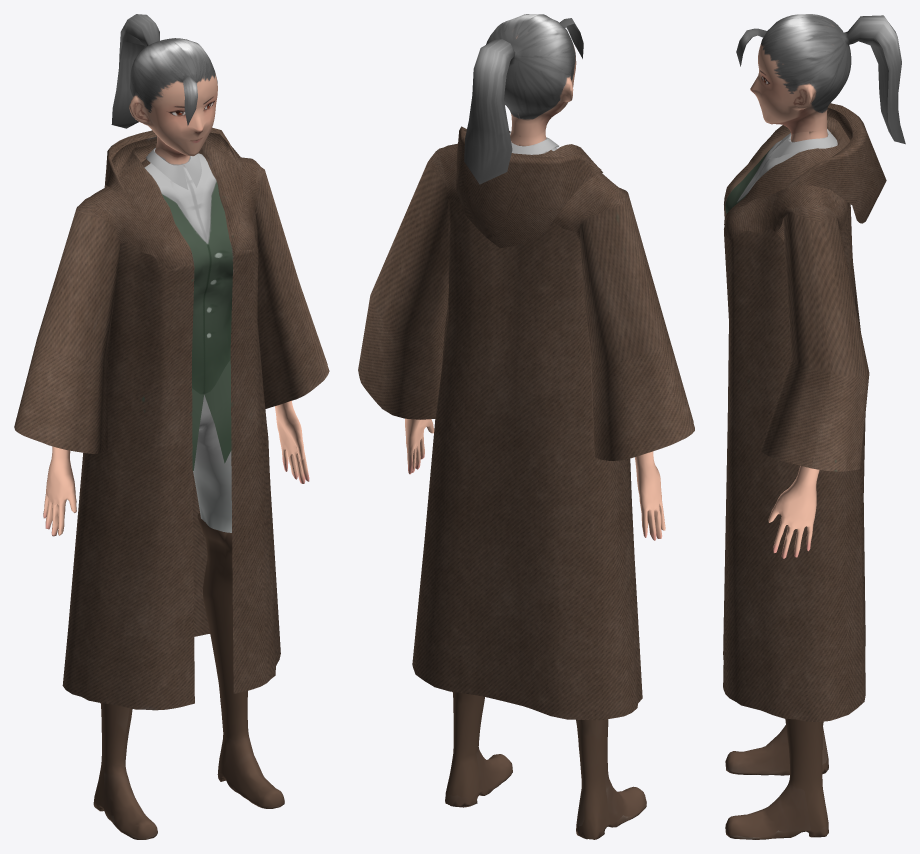
The model's file is sister-done.fbx.
The picture shows the model from 3 angles, left to right: view 1: azimuth 30°, elevation 25°; view 2: azimuth 150°, elevation 25°; view 3: azimuth 270°, elevation 25°; orthographic projection. The views are drawn at different scales.
Parts seen in each view (by area): view 1: sister_uvd:polySurface1; view 2: sister_uvd:polySurface1; view 3: sister_uvd:polySurface1.
Boxes of the visible parts, bbox=[...] form: sister_uvd:polySurface1: bbox=[14, 14, 329, 839]; sister_uvd:polySurface1: bbox=[358, 14, 694, 839]; sister_uvd:polySurface1: bbox=[723, 14, 905, 839].
Bounding box in the file's own units: 7.72 × 17.99 × 3.81.
Materials: 1 (1 with a texture image).
